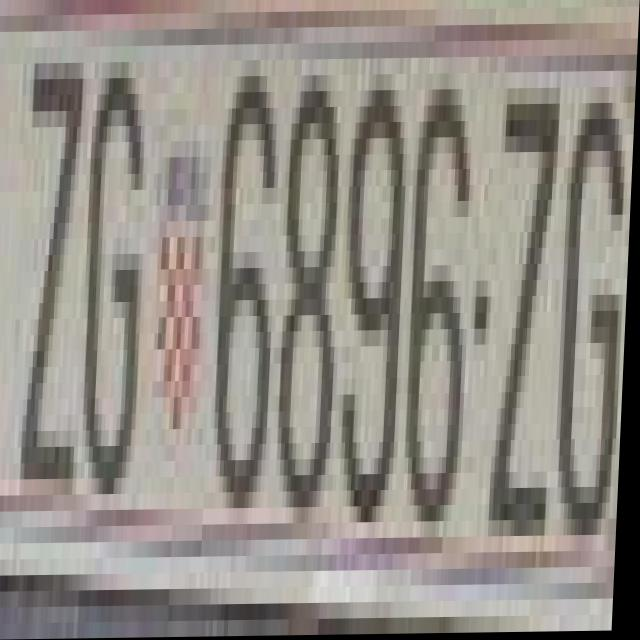6: (204, 77, 283, 525), (398, 106, 471, 555)
8: (276, 76, 344, 493)
9: (336, 107, 407, 508)
G: (69, 62, 148, 511), (557, 73, 630, 537)
Z: (2, 31, 89, 480), (493, 73, 566, 522)
